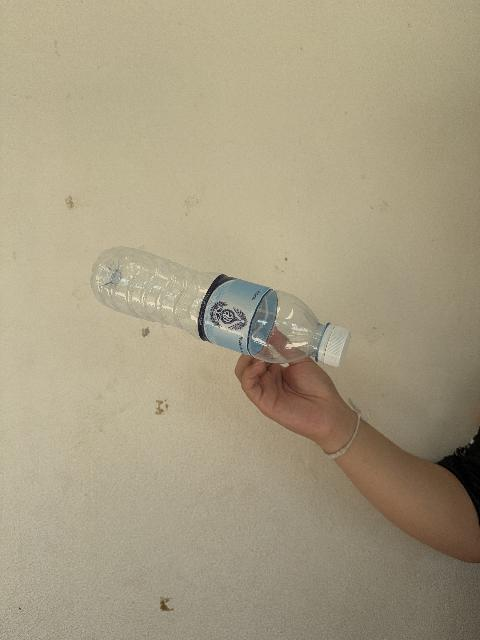bottle: (91, 247, 350, 366)
